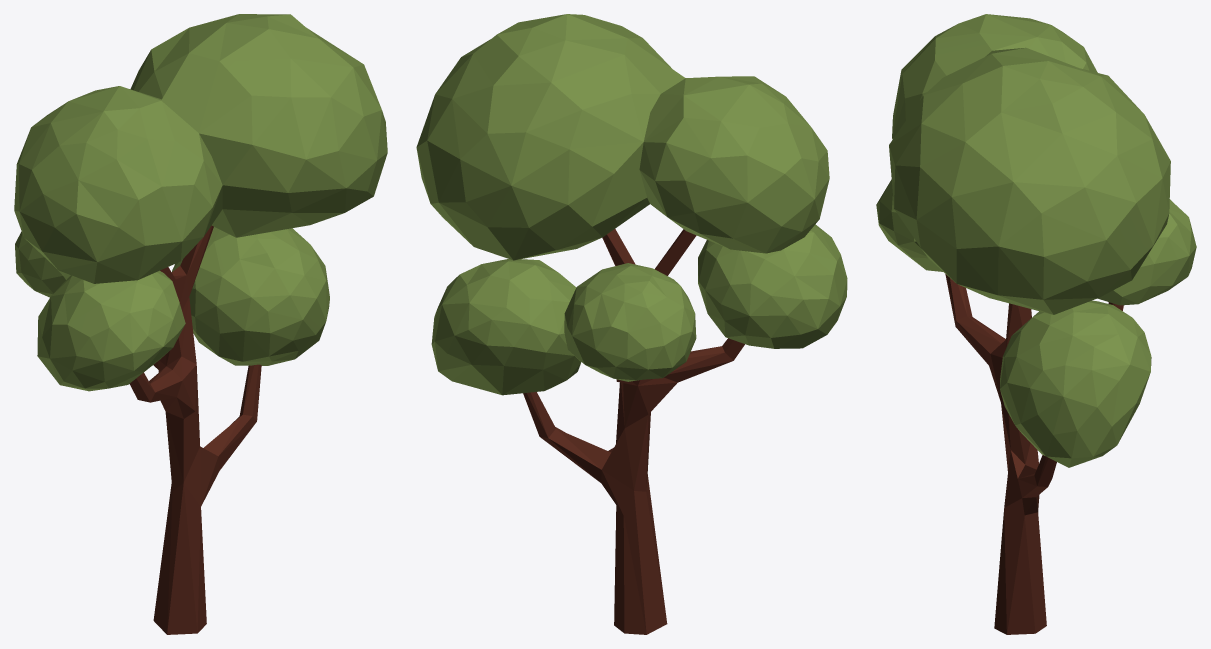
File: Tree.fbx
The picture shows the model from 3 angles, left to right: view 1: azimuth 30°, elevation 25°; view 2: azimuth 150°, elevation 25°; view 3: azimuth 270°, elevation 25°; orthographic projection. The views are drawn at different scales.
Visible parts, largest first — view 1: Tree; view 2: Tree; view 3: Tree.
Boxes of the visible parts, left/top/right/bottom form: Tree: left=14, top=14, right=387, bottom=634; Tree: left=416, top=14, right=847, bottom=634; Tree: left=876, top=14, right=1196, bottom=634.
Size of the model in its own units: 269 by 408 by 197.
